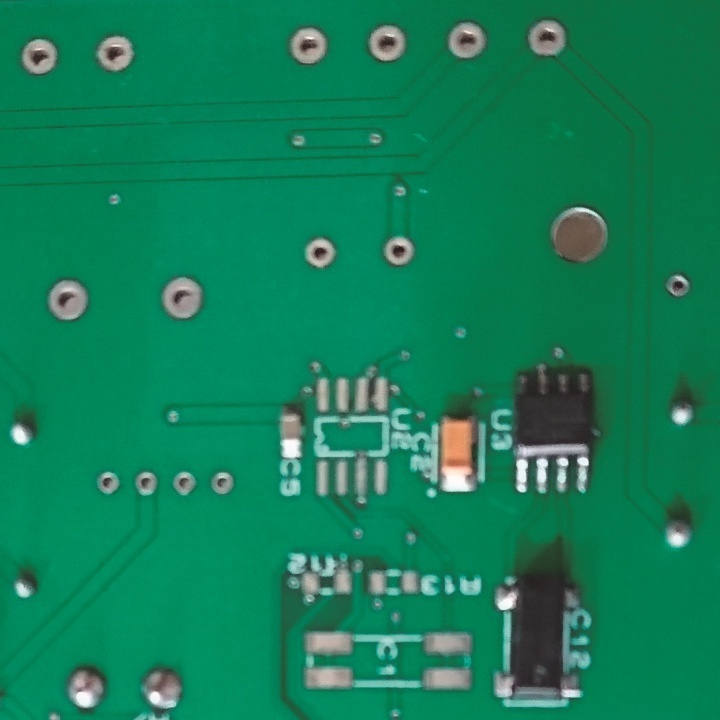F: (44, 275, 94, 325), (158, 272, 206, 321), (285, 22, 331, 69), (525, 16, 569, 63), (95, 31, 139, 77), (442, 20, 488, 63), (366, 23, 408, 66), (19, 35, 59, 77), (302, 235, 340, 271), (382, 232, 413, 267), (170, 469, 198, 498), (207, 469, 236, 497), (134, 466, 159, 498), (663, 271, 691, 299), (95, 468, 119, 495)
